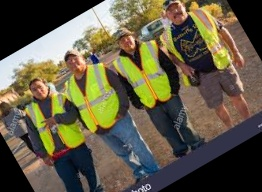NoHardhat: (166, 1, 225, 81), (117, 28, 161, 95), (68, 49, 108, 122), (30, 76, 66, 155)
